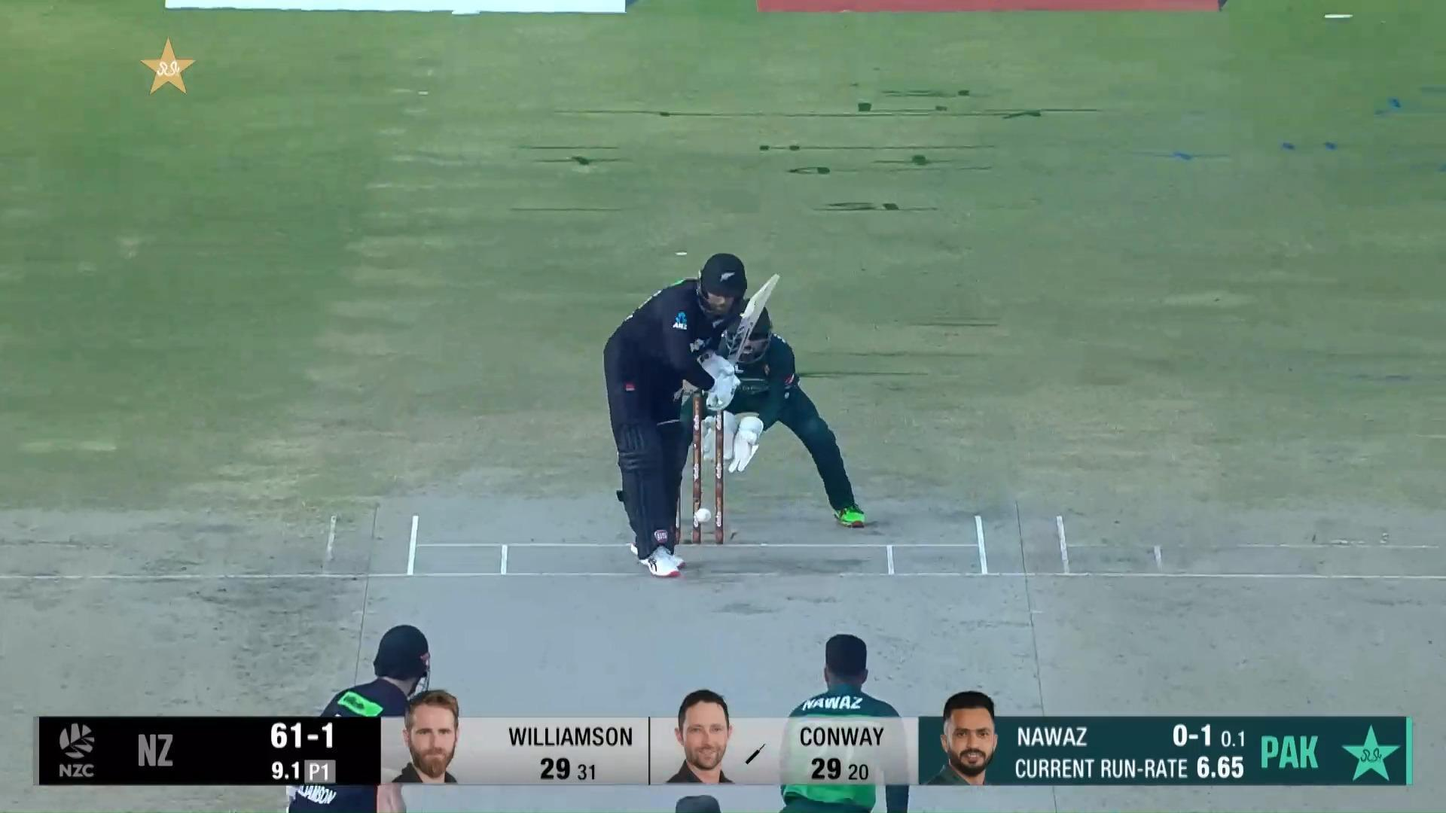BM 1: (604, 252, 780, 578)
BO: (775, 633, 915, 813)
